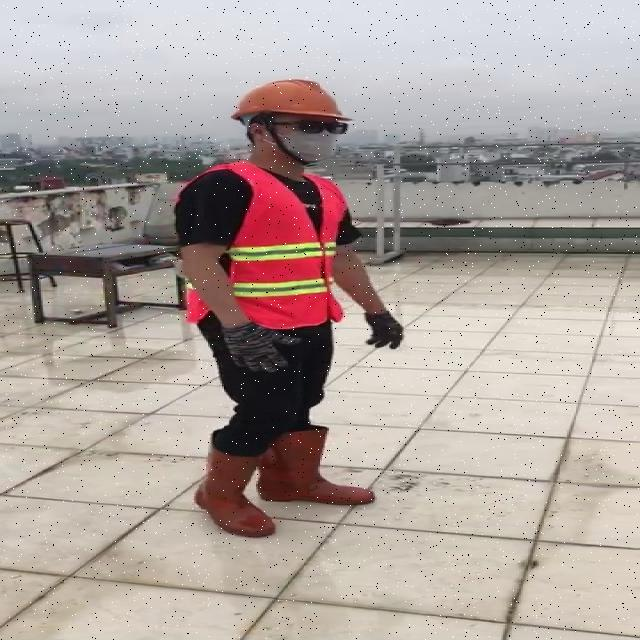Hard_hat: (225, 73, 358, 134)
Person: (159, 63, 407, 633)
Vest: (220, 164, 334, 325)
